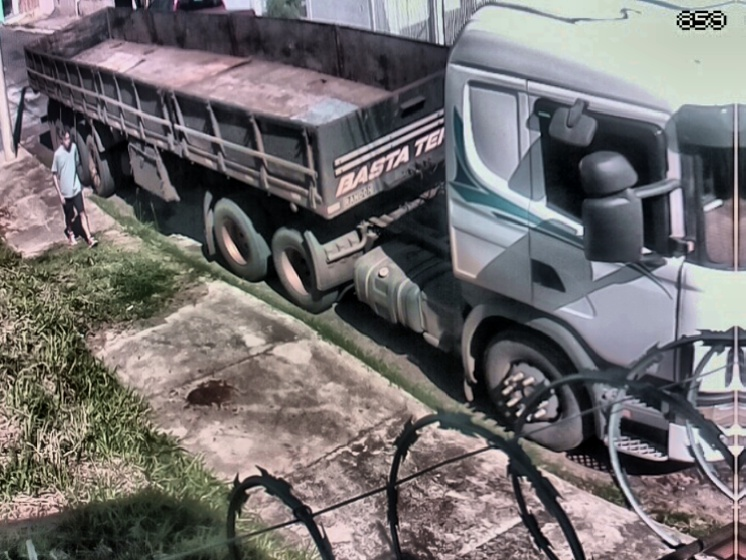person: (50, 128, 98, 249)
